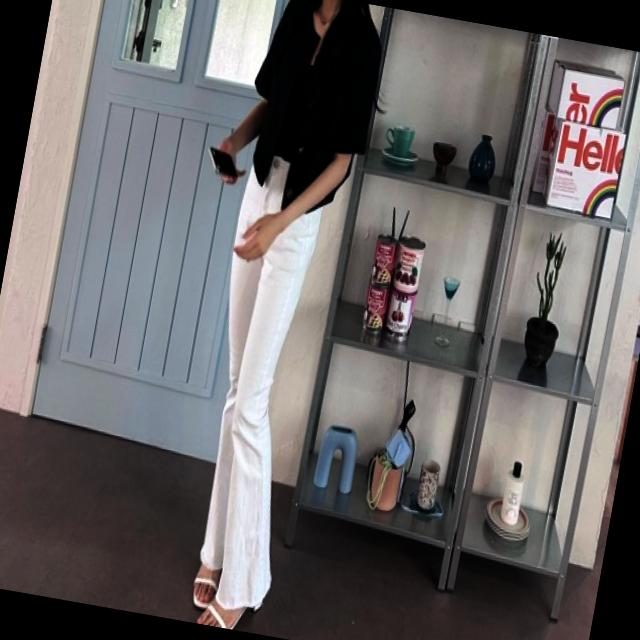blazer: (233, 0, 391, 225)
cottonpants: (170, 147, 346, 616)
